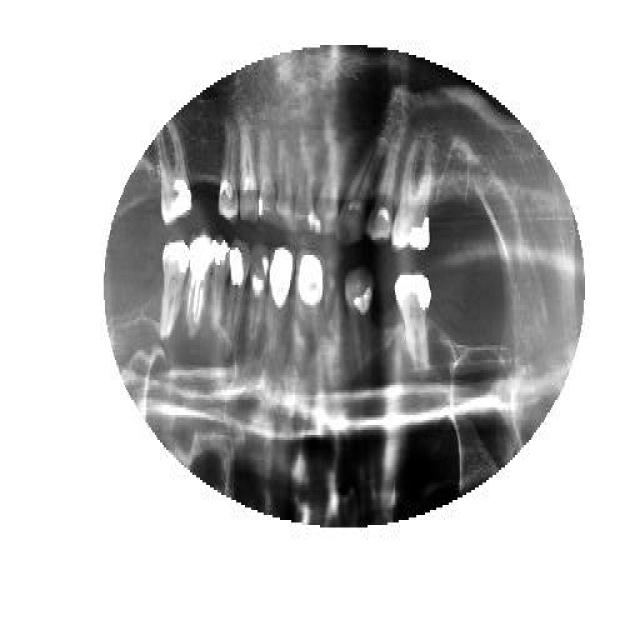Fillings: (392, 132, 432, 250), (395, 273, 431, 375), (158, 120, 192, 225), (295, 250, 324, 358), (161, 240, 189, 342), (226, 235, 246, 353), (268, 245, 294, 327), (214, 235, 226, 335)
Implant: (184, 235, 214, 337)
